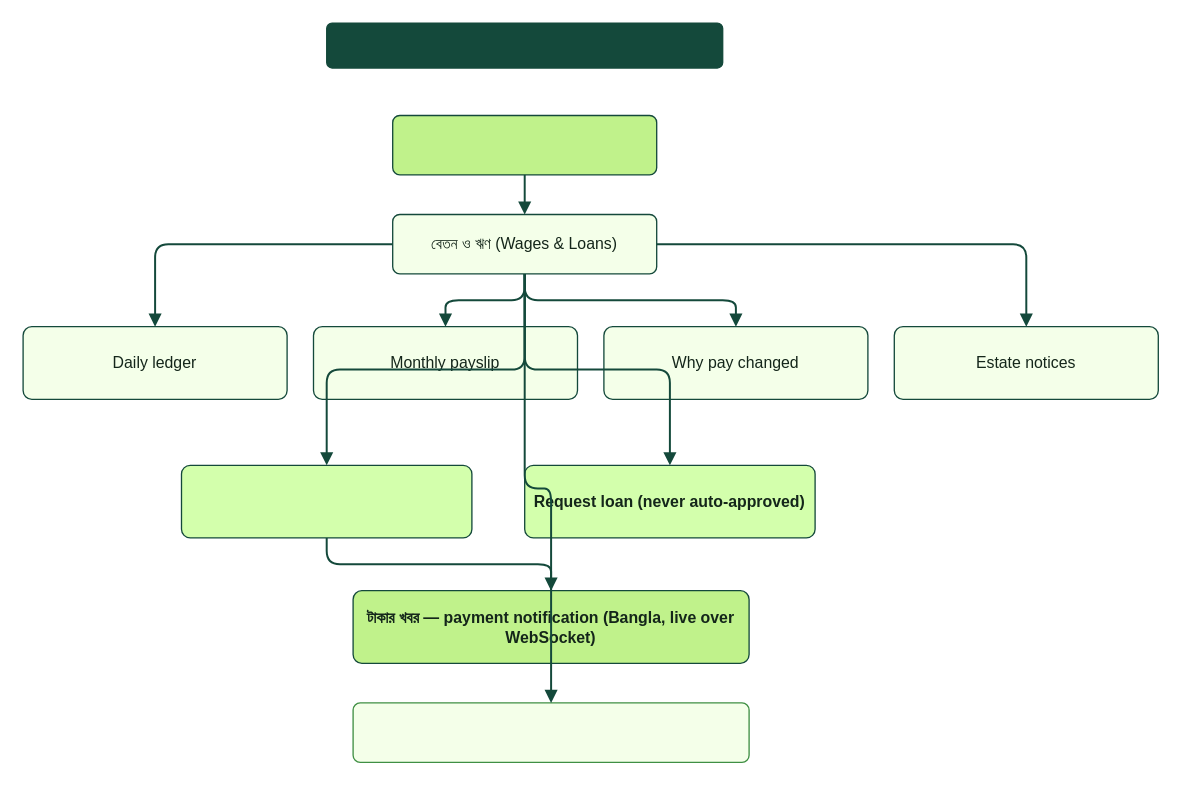
Some shapes in this 1181 by 785 pixel diagram are drawn without their labels. Each missing label, with the centre of its shape:
Confidential report to the office: pixel 550 732
Login: phone + 4-digit PIN: pixel 524 144
Request withdrawal (disabled when owed ৳0): pixel 326 501
WORKER CONSOLE FLOW: pixel 524 45
